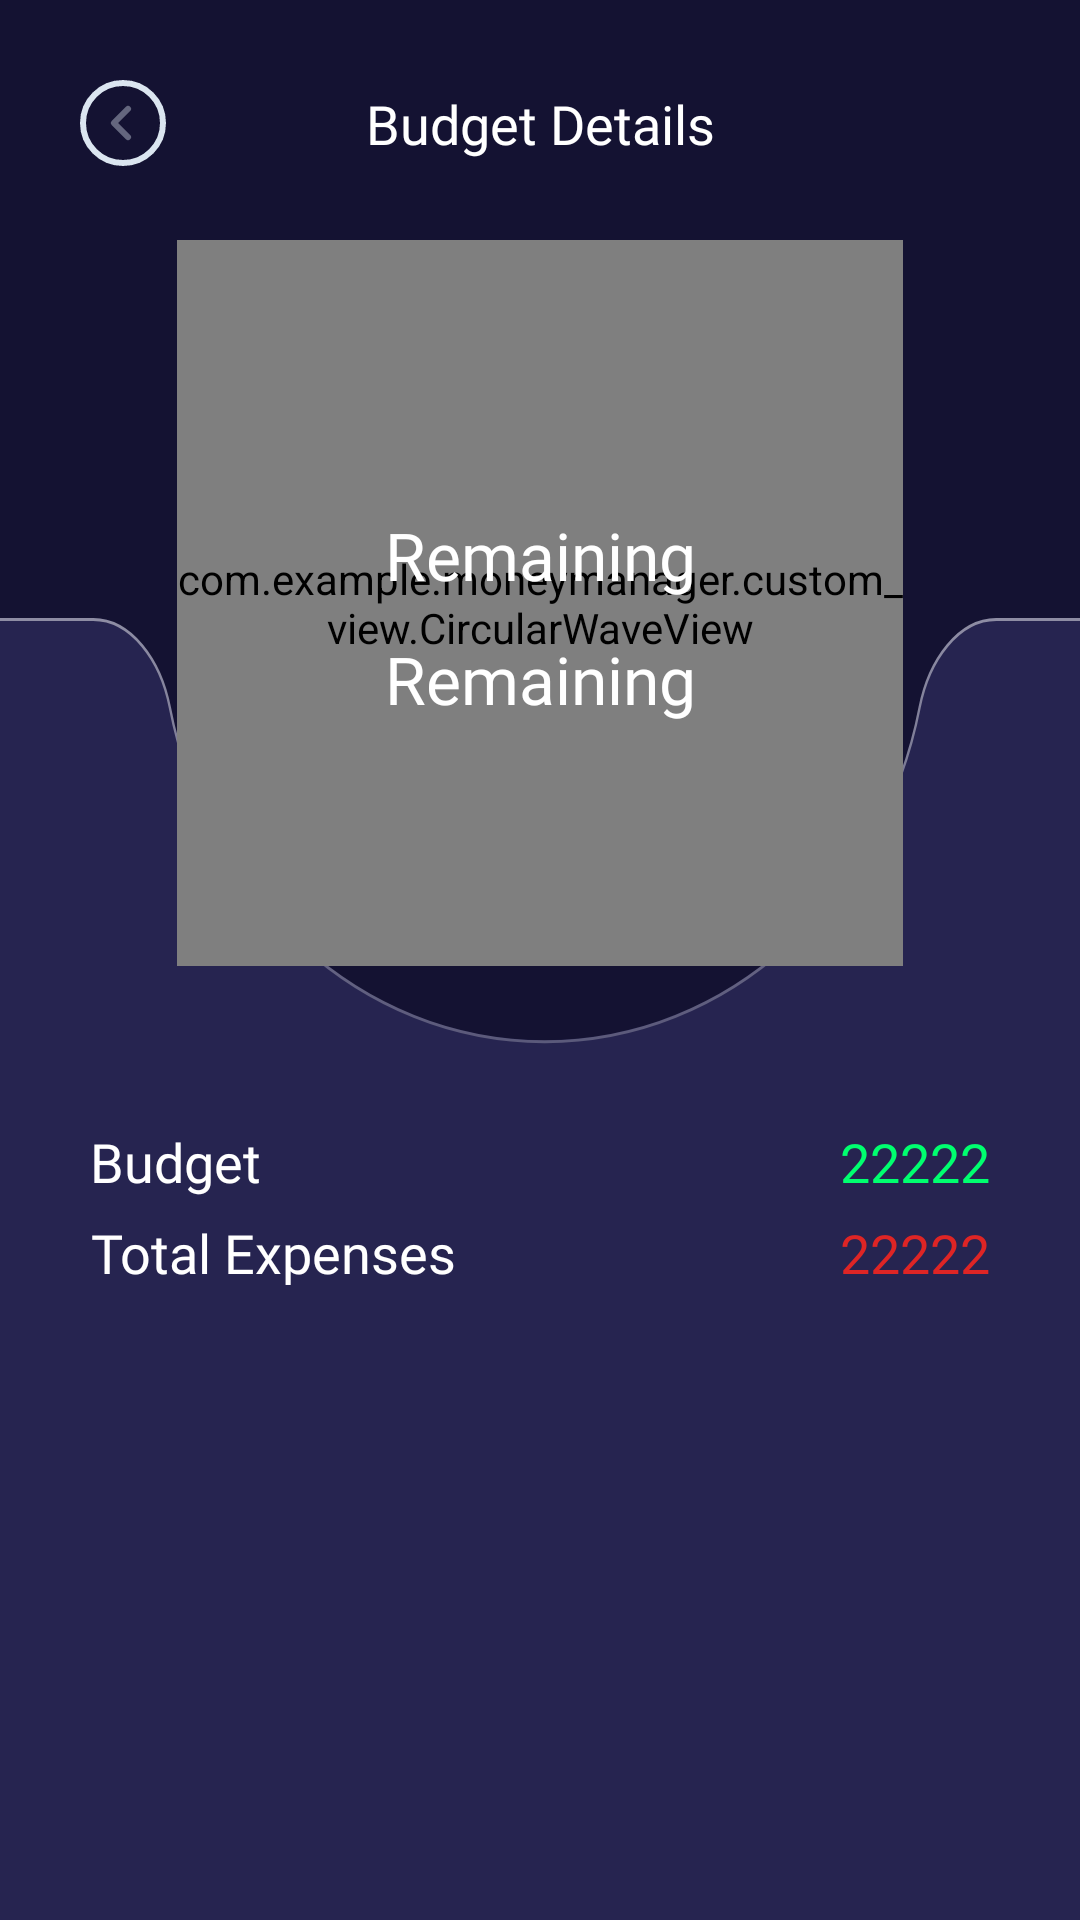

Named icons in this screenshot (1080*1920) and their centers, (x=x, y=y):
back: (x=123, y=123)
